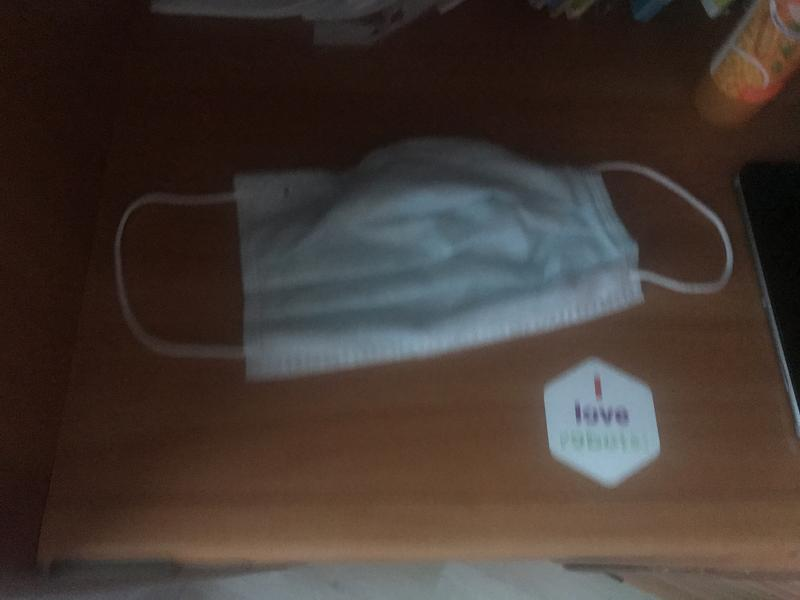medical_mask: (112, 140, 734, 359)
